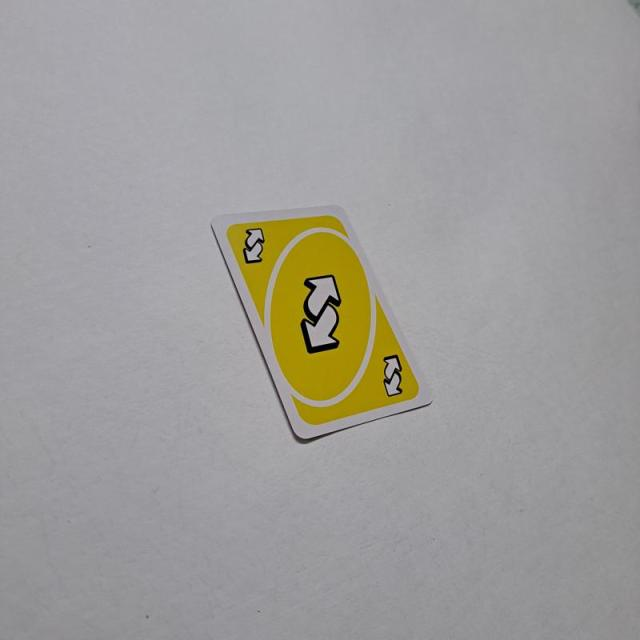Reverse: (238, 223, 266, 266)
Yellow_Card: (223, 210, 425, 429)
